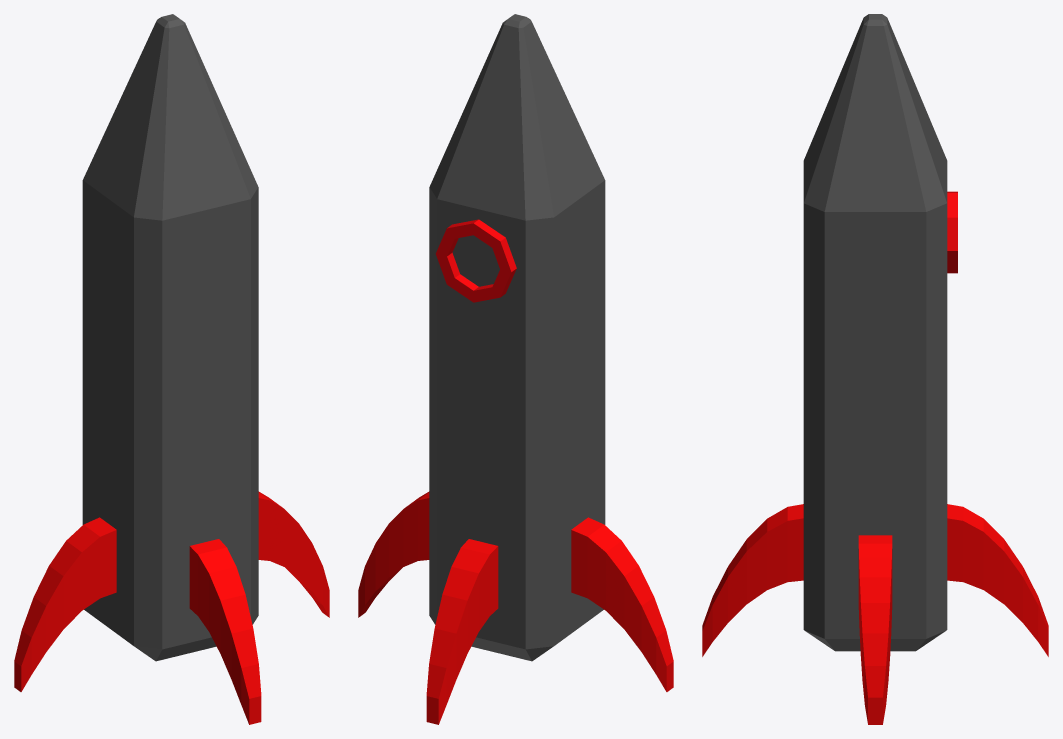
The model's file is rocketlvl1.fbx.
3 renders of one model, left to right at view 1: azimuth 30°, elevation 25°; view 2: azimuth 150°, elevation 25°; view 3: azimuth 270°, elevation 25°, orthographic.
Visible parts, largest first — view 1: Raketa1; view 2: Raketa1; view 3: Raketa1.
Boxes of the visible parts, x1,y1,x2,y2 form: Raketa1: (14, 14, 329, 724); Raketa1: (358, 14, 673, 724); Raketa1: (702, 14, 1048, 724).
Size of the model in its own units: 152 by 301 by 148.
